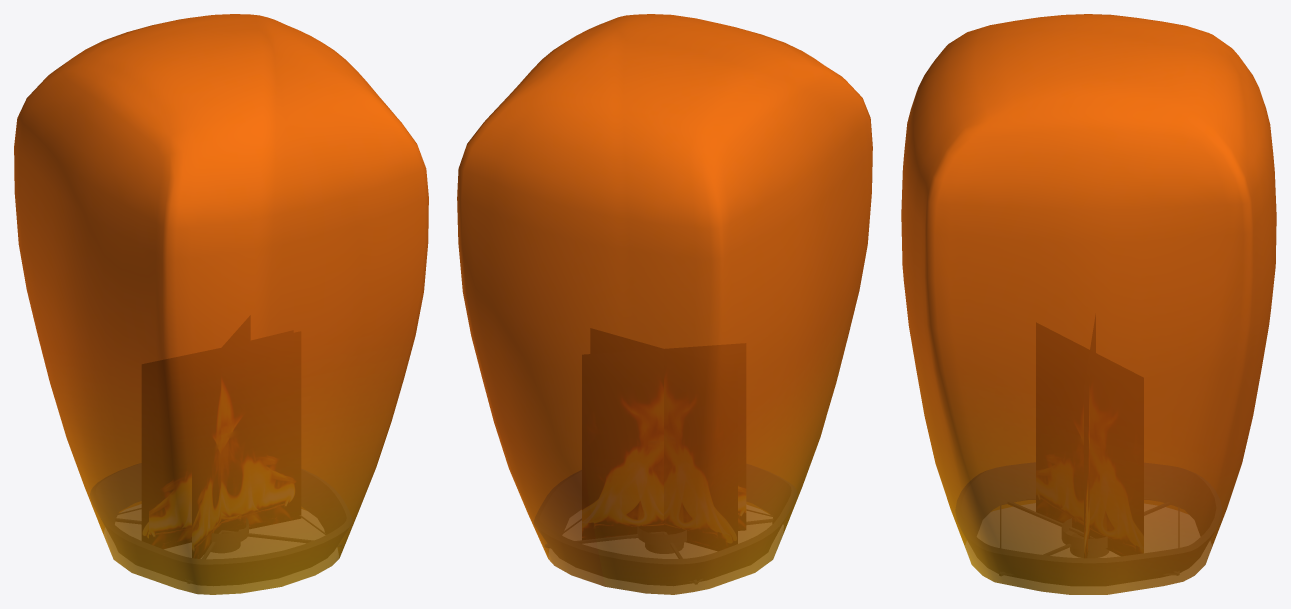
Rendered from deng.fbx.
3 views of the same model, side by side, from view 1: azimuth 30°, elevation 25°; view 2: azimuth 150°, elevation 25°; view 3: azimuth 270°, elevation 25° (orthographic).
Visible parts, largest first — view 1: polySurface1; view 2: polySurface1; view 3: polySurface1.
Boxes of the visible parts, box(x1,y1,x2,y2) form: polySurface1: box(14, 14, 428, 594); polySurface1: box(457, 14, 872, 594); polySurface1: box(901, 14, 1276, 594).
Bounding box in the file's own units: 7.51 × 12.15 × 8.21.
Materials: 3 (2 with a texture image).
